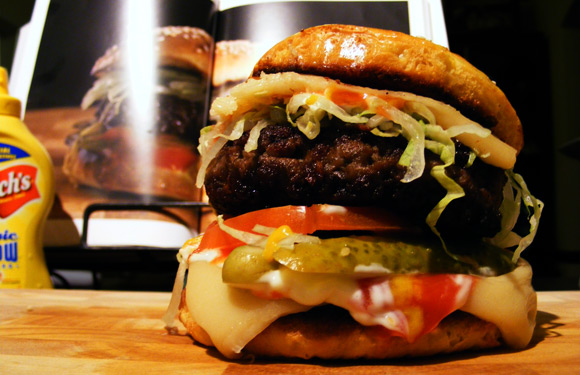hamburger_buns: (200, 32, 540, 156), (178, 293, 565, 366)
